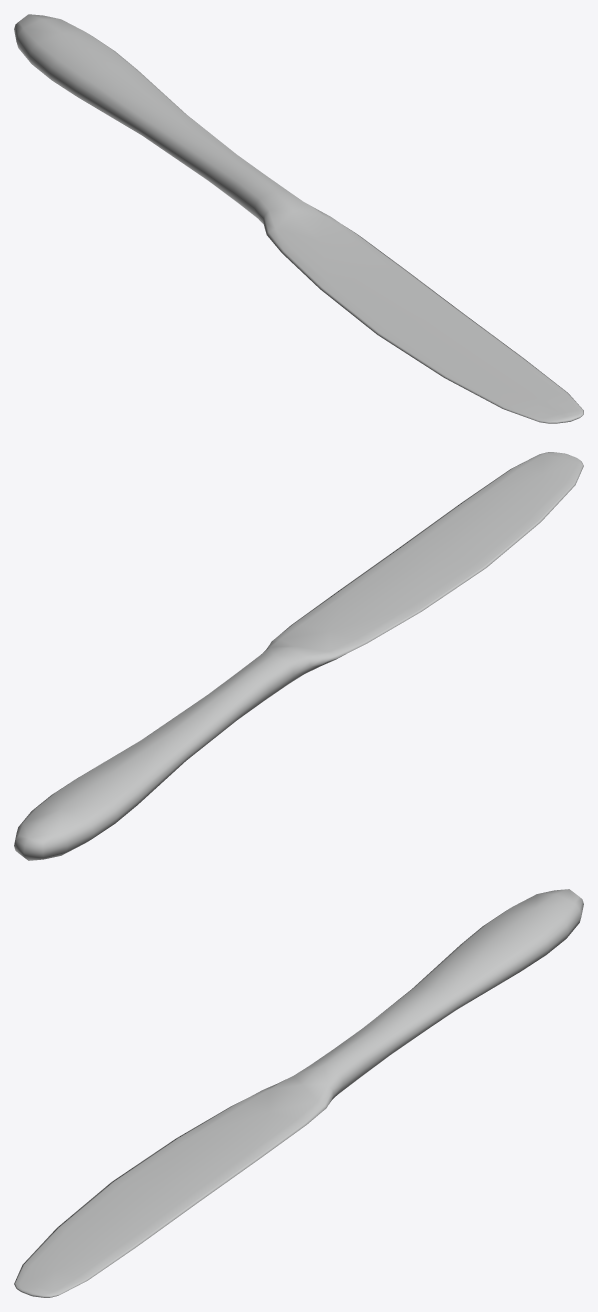
Rendered from Prop_Kitchen_Knife_x1.fbx.
The picture shows the model from 3 angles, top to bottom: view 1: azimuth 30°, elevation 25°; view 2: azimuth 150°, elevation 25°; view 3: azimuth 330°, elevation 25°; orthographic projection.
Parts seen in each view (by area): view 1: Prop_Kitchen_Knife_x1; view 2: Prop_Kitchen_Knife_x1; view 3: Prop_Kitchen_Knife_x1.
Boxes of the visible parts, <box> form: Prop_Kitchen_Knife_x1: <box>14,14,583,423</box>; Prop_Kitchen_Knife_x1: <box>14,452,583,860</box>; Prop_Kitchen_Knife_x1: <box>14,889,583,1297</box>.
Size of the model in its own units: 1.32 by 0.472 by 13.93.
